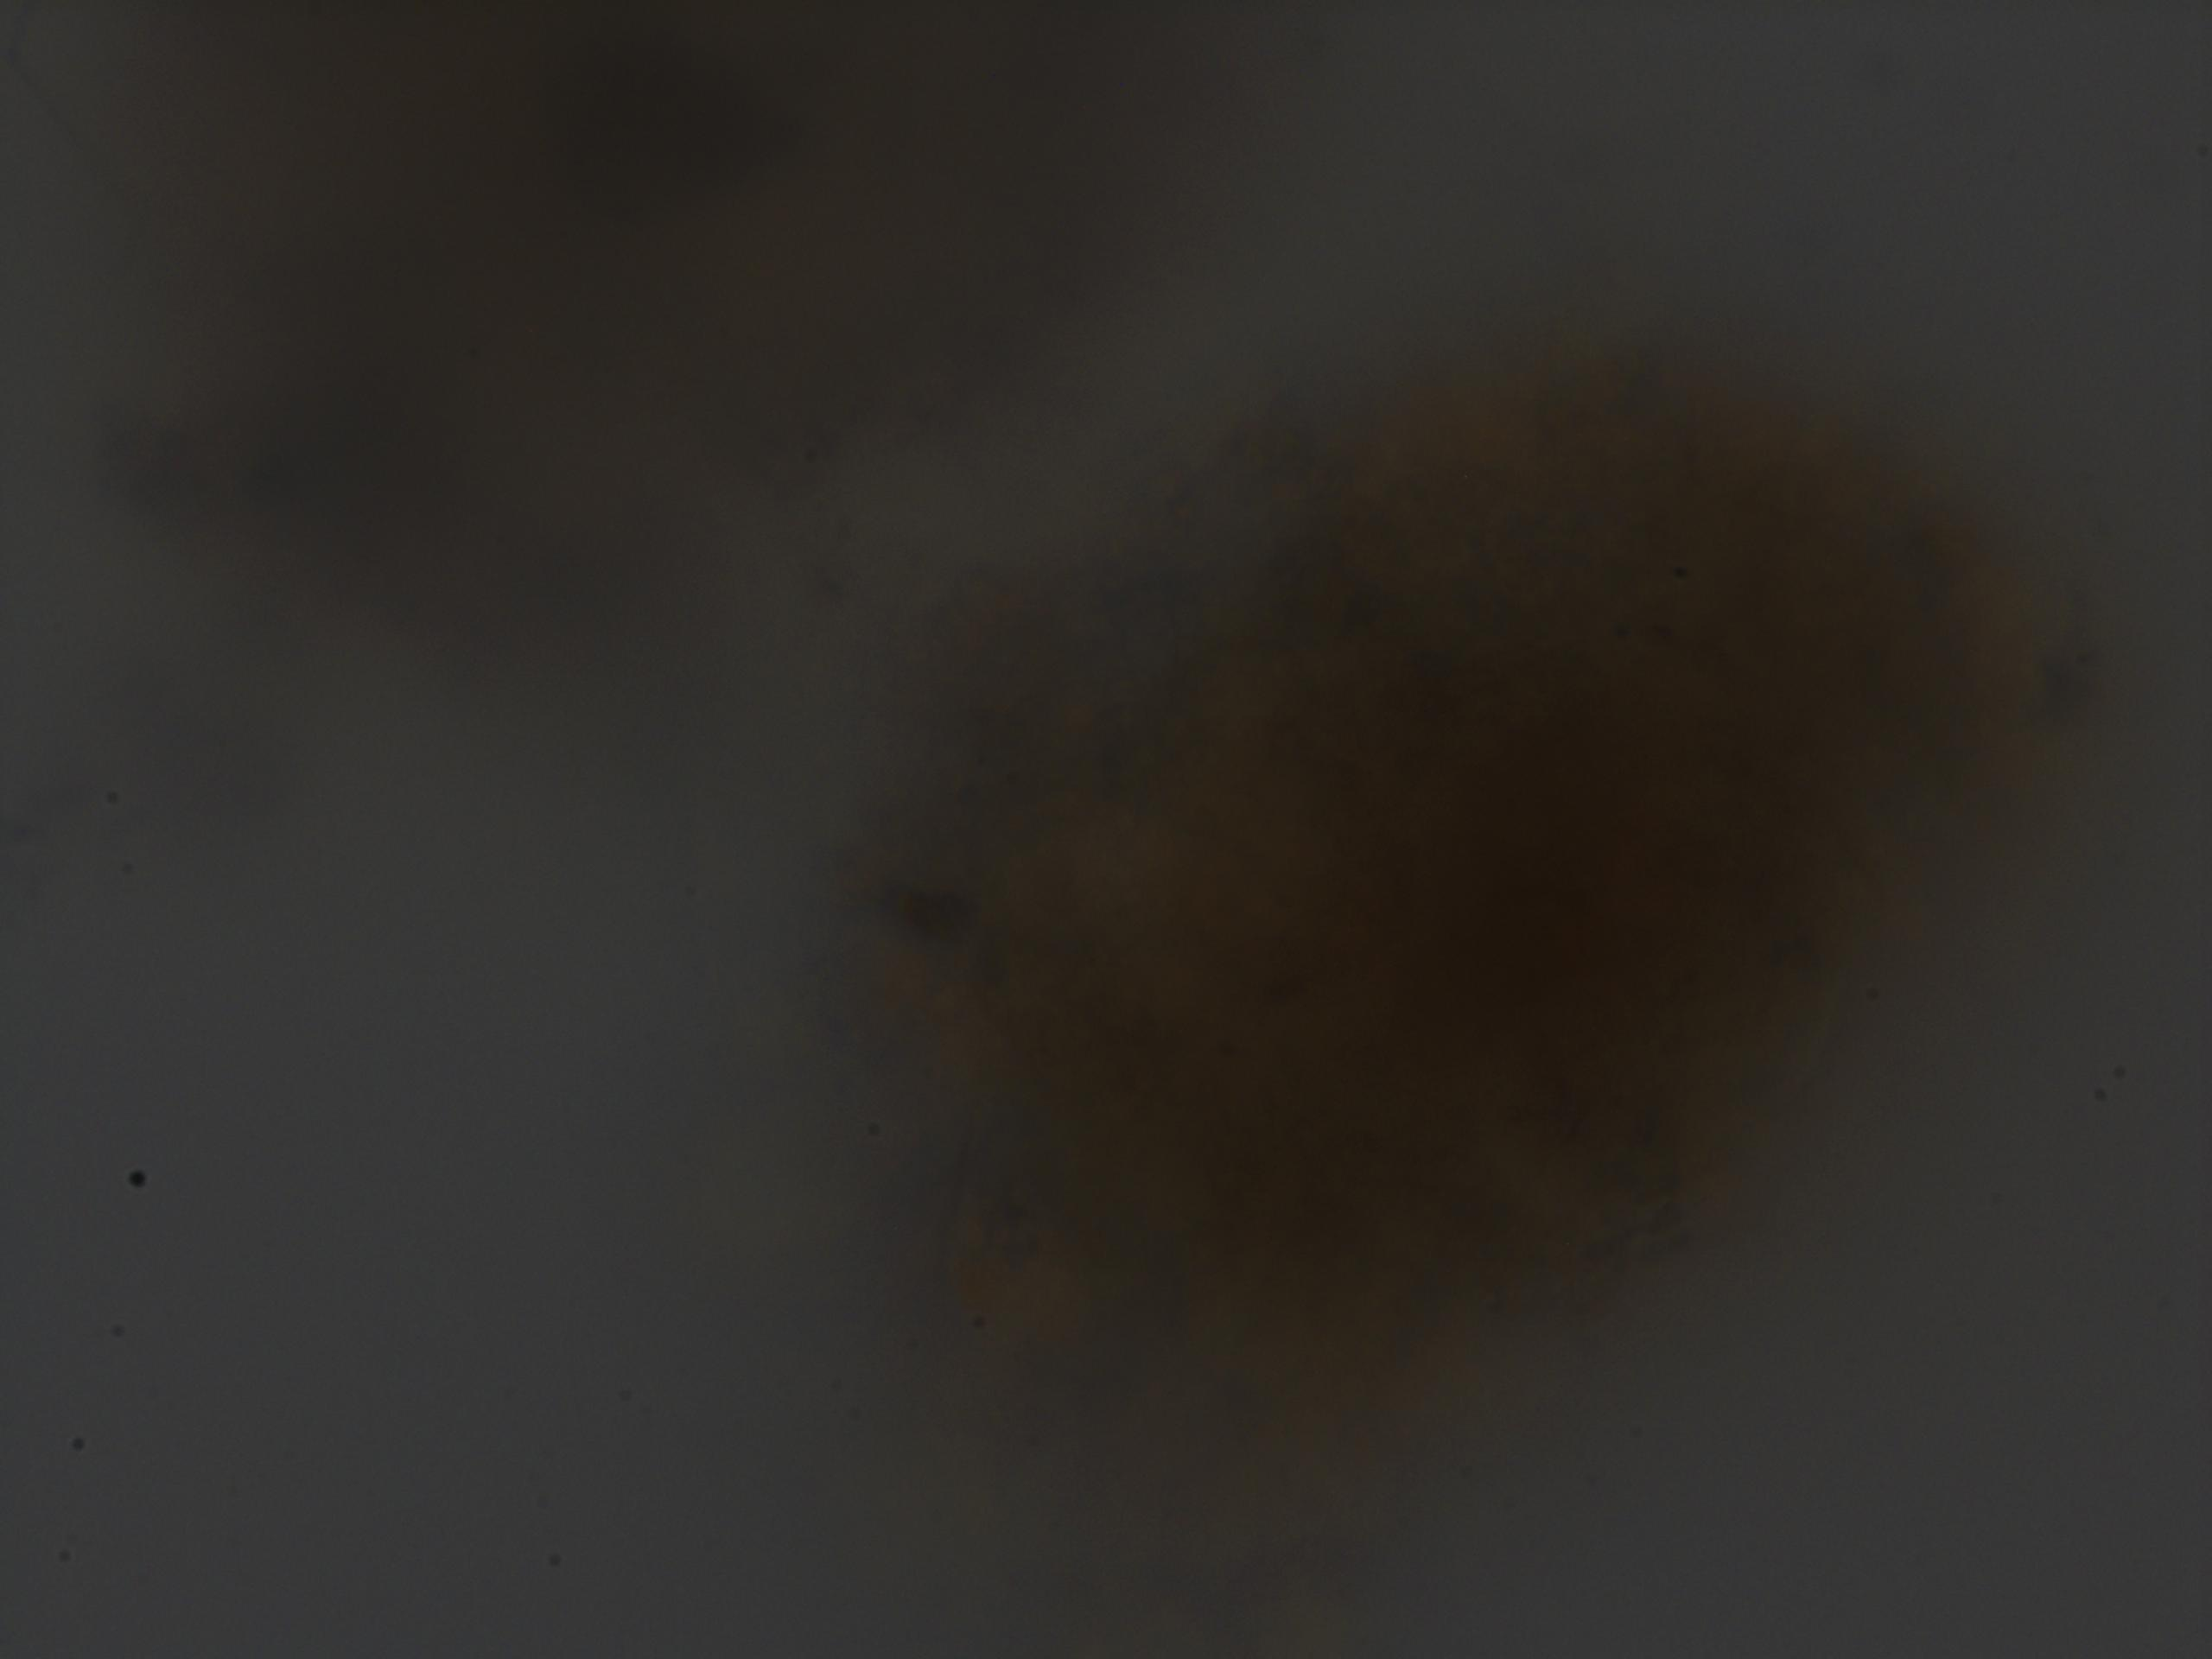spherical_floc: (873, 305, 2060, 1497)
